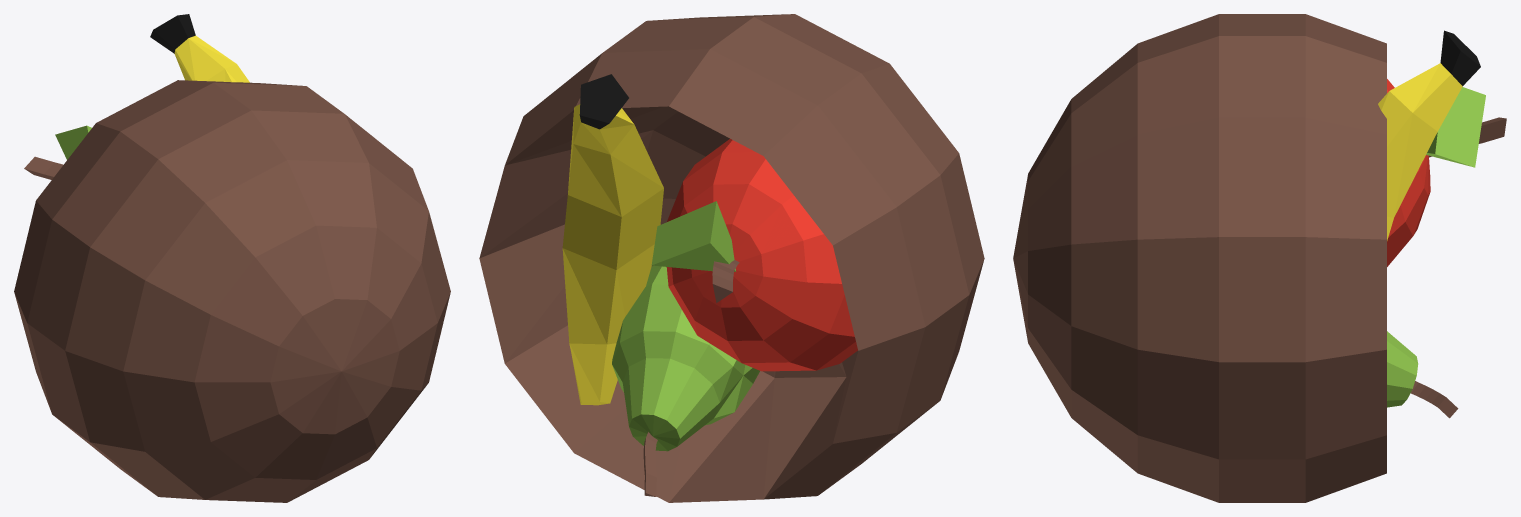
File: phal Bowl of Fruit.fbx
3 views of the same model, side by side, from view 1: azimuth 30°, elevation 25°; view 2: azimuth 150°, elevation 25°; view 3: azimuth 270°, elevation 25° (orthographic). The views are drawn at different scales.
Visible parts, largest first — view 1: imagetostl_mesh0, imagetostl_mesh1, imagetostl_mesh2, imagetostl_mesh5, imagetostl_mesh6; view 2: imagetostl_mesh0, imagetostl_mesh7, imagetostl_mesh1, imagetostl_mesh4, imagetostl_mesh5, imagetostl_mesh2, imagetostl_mesh6, imagetostl_mesh3; view 3: imagetostl_mesh0, imagetostl_mesh1, imagetostl_mesh5, imagetostl_mesh7, imagetostl_mesh4, imagetostl_mesh2, imagetostl_mesh3, imagetostl_mesh6.
Boxes of the visible parts, left/top/right/bottom form: imagetostl_mesh0: left=14, top=80, right=450, bottom=502; imagetostl_mesh1: left=174, top=35, right=249, bottom=82; imagetostl_mesh2: left=150, top=14, right=195, bottom=53; imagetostl_mesh5: left=55, top=125, right=91, bottom=159; imagetostl_mesh6: left=24, top=156, right=63, bottom=179; imagetostl_mesh0: left=479, top=14, right=984, bottom=502; imagetostl_mesh7: left=666, top=138, right=857, bottom=371; imagetostl_mesh1: left=562, top=104, right=663, bottom=405; imagetostl_mesh4: left=612, top=265, right=759, bottom=451; imagetostl_mesh5: left=651, top=201, right=735, bottom=271; imagetostl_mesh2: left=579, top=74, right=628, bottom=129; imagetostl_mesh6: left=712, top=259, right=739, bottom=302; imagetostl_mesh3: left=643, top=432, right=657, bottom=496; imagetostl_mesh0: left=1013, top=14, right=1386, bottom=502; imagetostl_mesh1: left=1378, top=63, right=1462, bottom=240; imagetostl_mesh5: left=1426, top=87, right=1485, bottom=167; imagetostl_mesh7: left=1387, top=79, right=1430, bottom=266; imagetostl_mesh4: left=1387, top=331, right=1418, bottom=407; imagetostl_mesh2: left=1440, top=30, right=1480, bottom=86; imagetostl_mesh3: left=1411, top=381, right=1458, bottom=418; imagetostl_mesh6: left=1429, top=117, right=1506, bottom=157.
Size of the model in its own units: 31.51 by 32.88 by 31.7.
